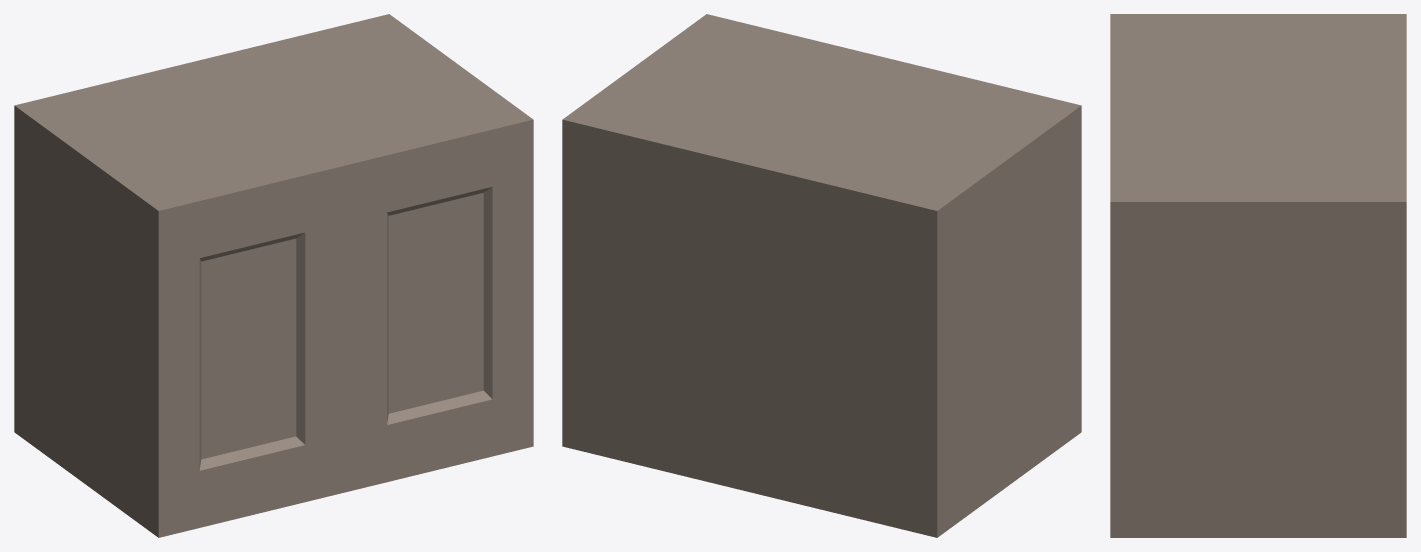
The model's file is 12-15-High-12-Deep_std_001_W18in_1D.glb.
3 renders of one model, left to right at view 1: azimuth 30°, elevation 25°; view 2: azimuth 150°, elevation 25°; view 3: azimuth 270°, elevation 25°, orthographic. The views are drawn at different scales.
Parts seen in each view (by area): view 1: 12-15-High-12-Deep.std.001_W18in_1D; view 2: 12-15-High-12-Deep.std.001_W18in_1D; view 3: 12-15-High-12-Deep.std.001_W18in_1D.
Part boxes in pixels (box(x1,y1,x2,y2)): 12-15-High-12-Deep.std.001_W18in_1D: box(14, 14, 533, 537); 12-15-High-12-Deep.std.001_W18in_1D: box(562, 14, 1081, 537); 12-15-High-12-Deep.std.001_W18in_1D: box(1110, 14, 1406, 537).
Bounding box in the file's own units: 0.4572 × 0.381 × 0.3048.
